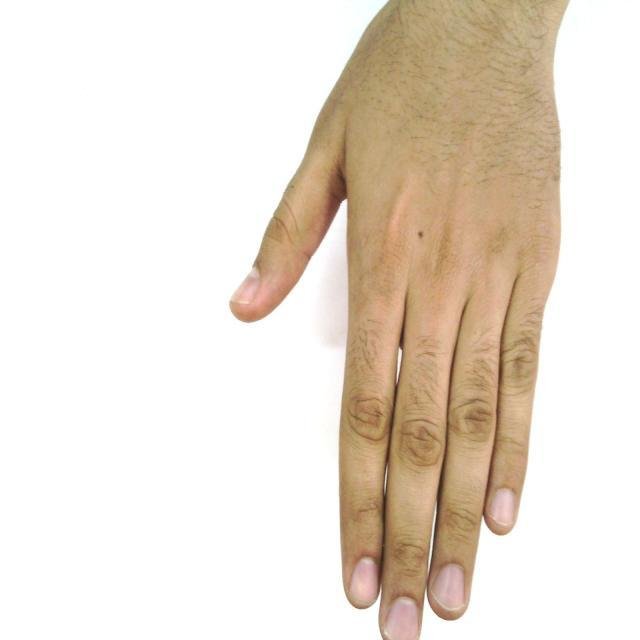Fingernail: (431, 564, 466, 611), (385, 598, 419, 639), (350, 559, 379, 605), (490, 489, 514, 527), (231, 271, 258, 304)
